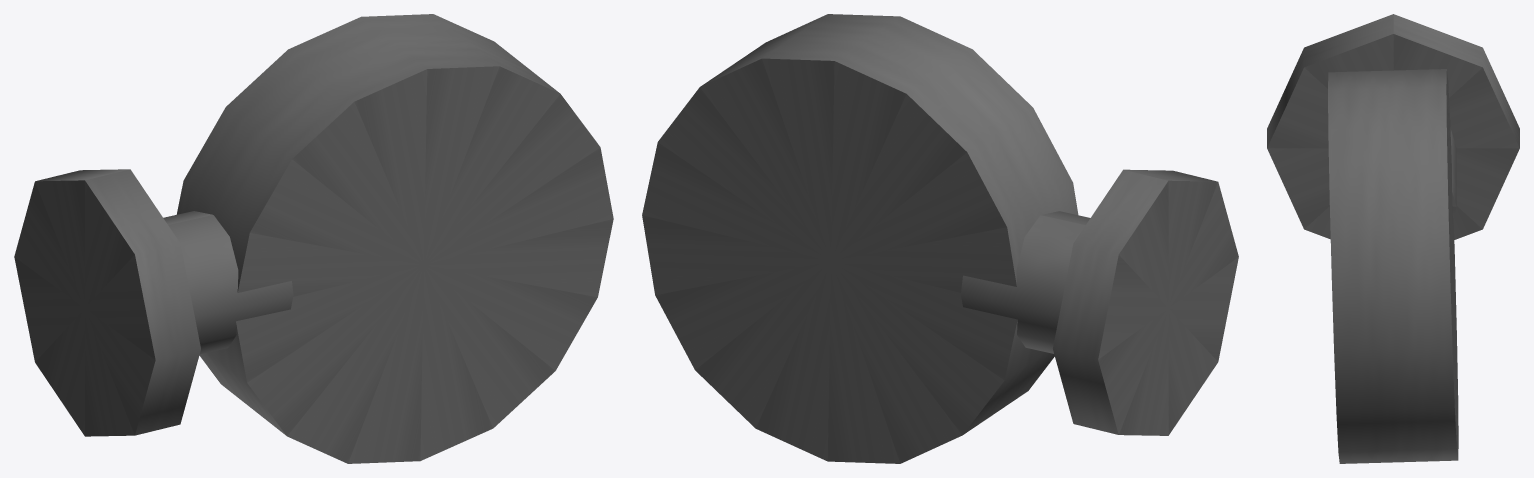
The model's file is mastarmcurve_8x2_c9_west.obj.
The picture shows the model from 3 angles, left to right: view 1: azimuth 30°, elevation 25°; view 2: azimuth 150°, elevation 25°; view 3: azimuth 270°, elevation 25°; orthographic projection. The views are drawn at different scales.
Parts seen in each view (by area): view 1: mastarm_8x2_c9_west; view 2: mastarm_8x2_c9_west; view 3: mastarm_8x2_c9_west.
Boxes of the visible parts, <box> form: mastarm_8x2_c9_west: <box>14,14,613,463</box>; mastarm_8x2_c9_west: <box>642,14,1238,463</box>; mastarm_8x2_c9_west: <box>1267,14,1519,463</box>.
Bounding box in the file's own units: 0.8095 × 0.6259 × 0.4.
